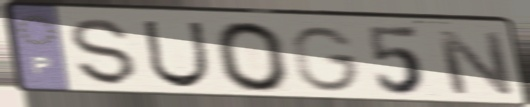5: (365, 24, 434, 99)
G: (288, 24, 364, 94)
N: (431, 28, 519, 98)
O: (211, 19, 294, 95)
S: (67, 17, 141, 89)
U: (139, 18, 213, 90)
